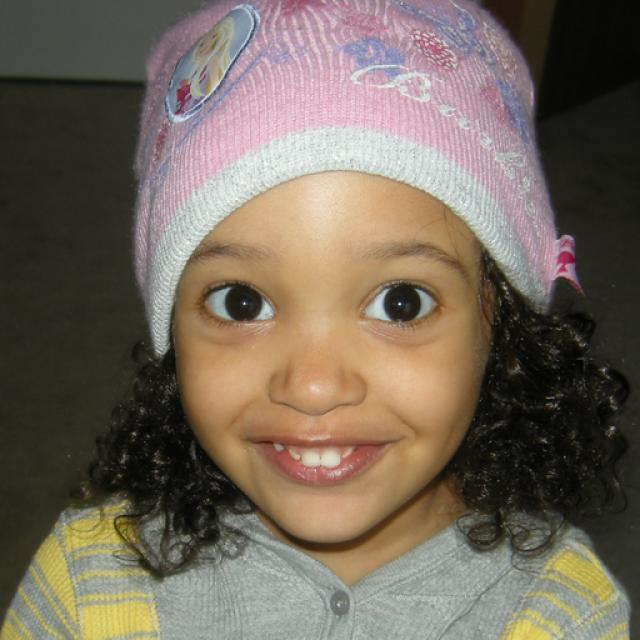happy: (172, 163, 494, 546)
